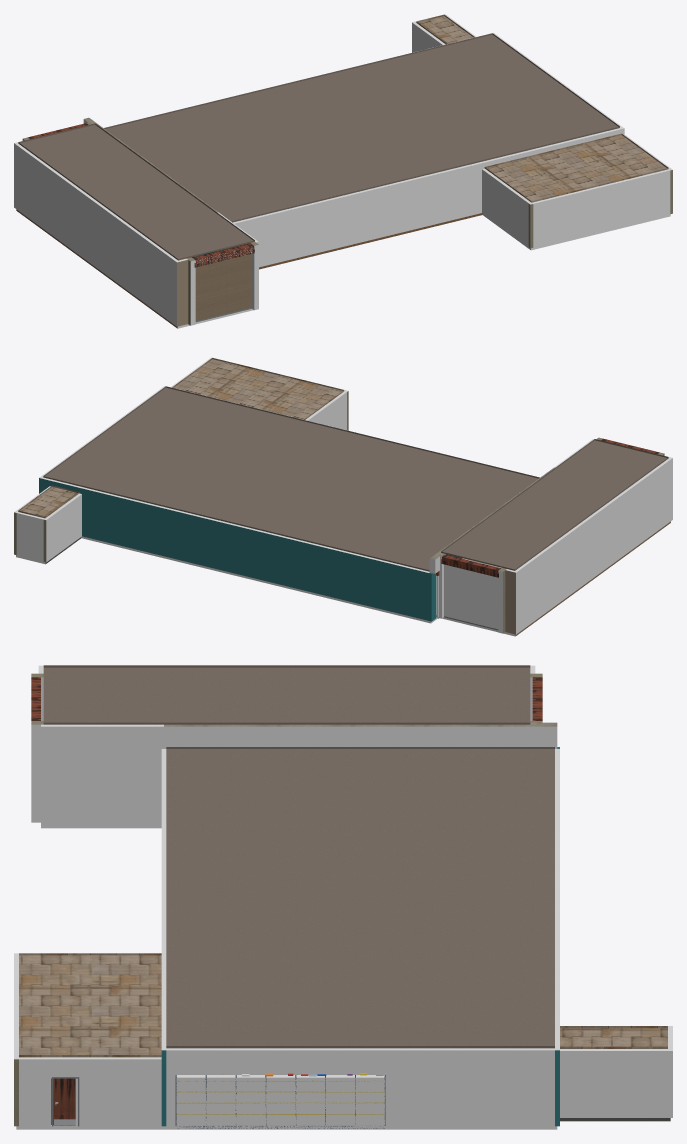
The picture shows the model from 3 angles, top to bottom: view 1: azimuth 30°, elevation 25°; view 2: azimuth 150°, elevation 25°; view 3: azimuth 270°, elevation 25°; orthographic projection. The views are drawn at different scales.
Parts seen in each view (by area): view 1: S_ceiling, COL, S_concrete_panels, S_shutter_rust, S_painted_metal, S_plaster_beige, S_concrete_wall, S_wood_floor; view 2: S_ceiling, COL, S_paint_teal, S_concrete_panels, S_painted_metal, S_plaster_beige, S_concrete_wall; view 3: S_ceiling, COL, S_concrete_panels, S_plaster_white, E_from_fc, S_paint_yellow, S_painted_metal, S_paint_teal.
Part boxes in pixels (box(x1,y1,x2,y2)): S_ceiling: box(18, 33, 619, 260); COL: box(14, 14, 672, 328); S_concrete_panels: box(416, 14, 668, 202); S_shutter_rust: box(195, 254, 251, 320); S_painted_metal: box(28, 123, 254, 267); S_plaster_beige: box(177, 243, 250, 326); S_concrete_wall: box(22, 122, 672, 325); S_wood_floor: box(259, 213, 482, 269); S_ceiling: box(43, 386, 668, 571); COL: box(14, 357, 672, 636); S_paint_teal: box(39, 478, 436, 621); S_concrete_panels: box(18, 358, 344, 518); S_painted_metal: box(436, 438, 659, 577); S_plaster_beige: box(505, 570, 515, 634); S_concrete_wall: box(14, 391, 664, 633); S_ceiling: box(43, 665, 554, 1048); COL: box(14, 665, 672, 1129); S_concrete_panels: box(19, 953, 667, 1057); S_plaster_white: box(164, 722, 557, 726); E_from_fc: box(53, 1078, 75, 1125); S_paint_yellow: box(176, 1080, 384, 1125); S_painted_metal: box(31, 677, 542, 720); S_paint_teal: box(161, 747, 559, 1126).
Size of the model in its own units: 35.15 by 4.7 by 26.8.
Materials: 86 (37 with a texture image).
